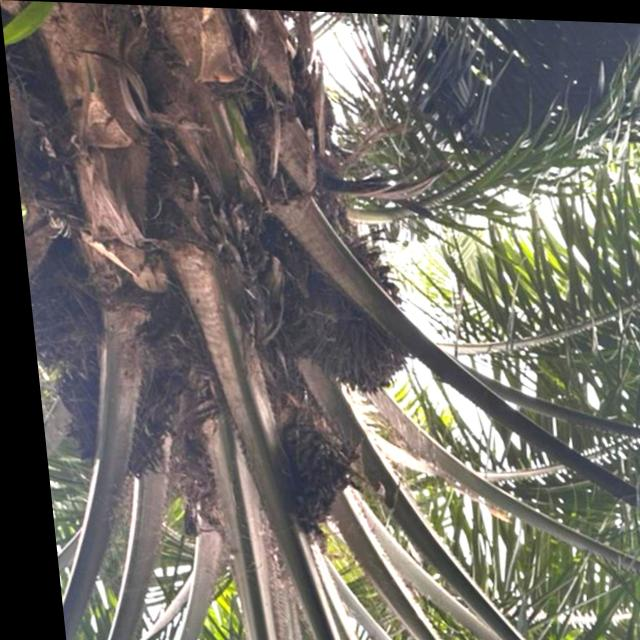almost: (291, 237, 408, 400), (21, 254, 110, 370)
